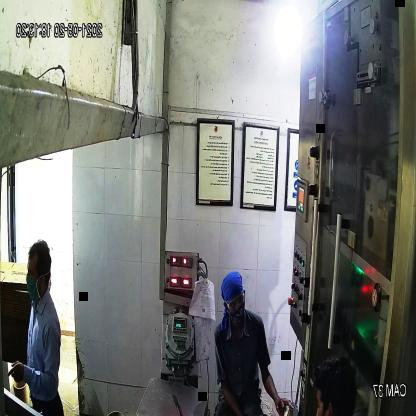goggles: (225, 289, 247, 315)
no_goggles: (25, 261, 53, 285)
